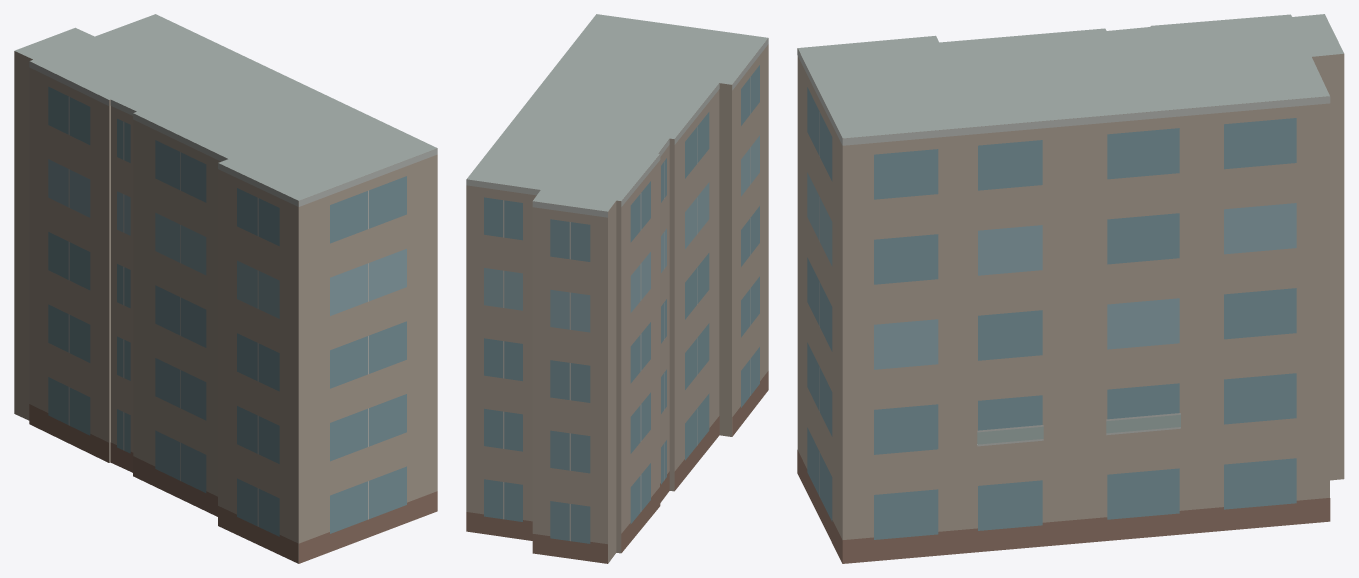
File: survey-upis-33017405.glb
The picture shows the model from 3 angles, left to right: view 1: azimuth 30°, elevation 25°; view 2: azimuth 150°, elevation 25°; view 3: azimuth 270°, elevation 25°; orthographic projection. The views are drawn at different scales.
Parts seen in each view (by area): view 1: survey-upis-33017405.tmp; view 2: survey-upis-33017405.tmp; view 3: survey-upis-33017405.tmp.
Boxes of the visible parts, x1,y1,x2,y2 form: survey-upis-33017405.tmp: (14,14,437,563); survey-upis-33017405.tmp: (466,14,768,563); survey-upis-33017405.tmp: (797,14,1344,563).
Bounding box in the file's own units: 8.92 × 14.2 × 16.55.
